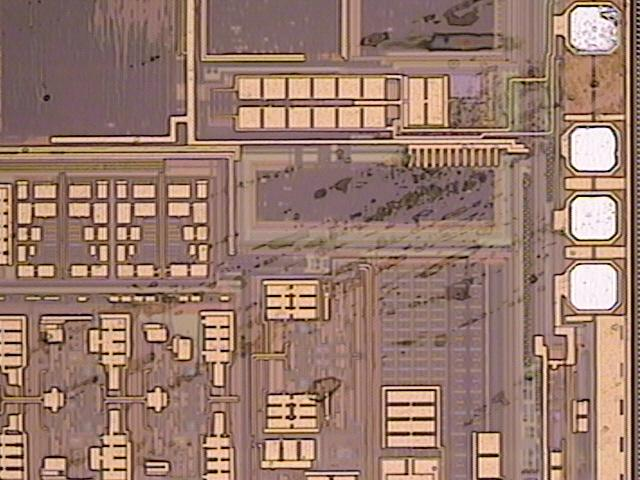PO CONTAMINATION: (17, 1, 640, 436)
